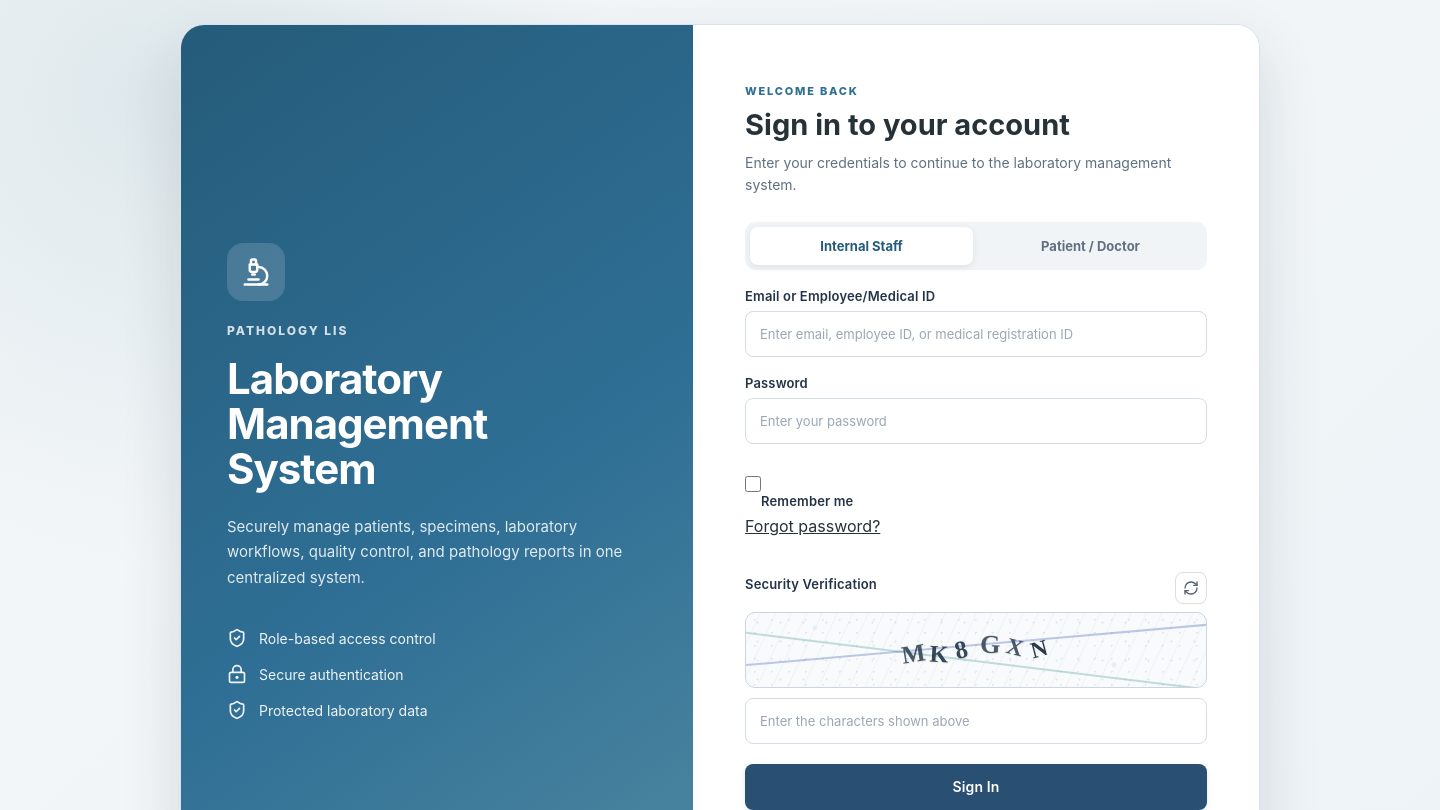
Test case: Login › switches to external patient login
This screenshot has width=1440, height=810.
Click the button "Patient / Doctor". click: {"x": 1090, "y": 246}
box: [979,227,1202,265]
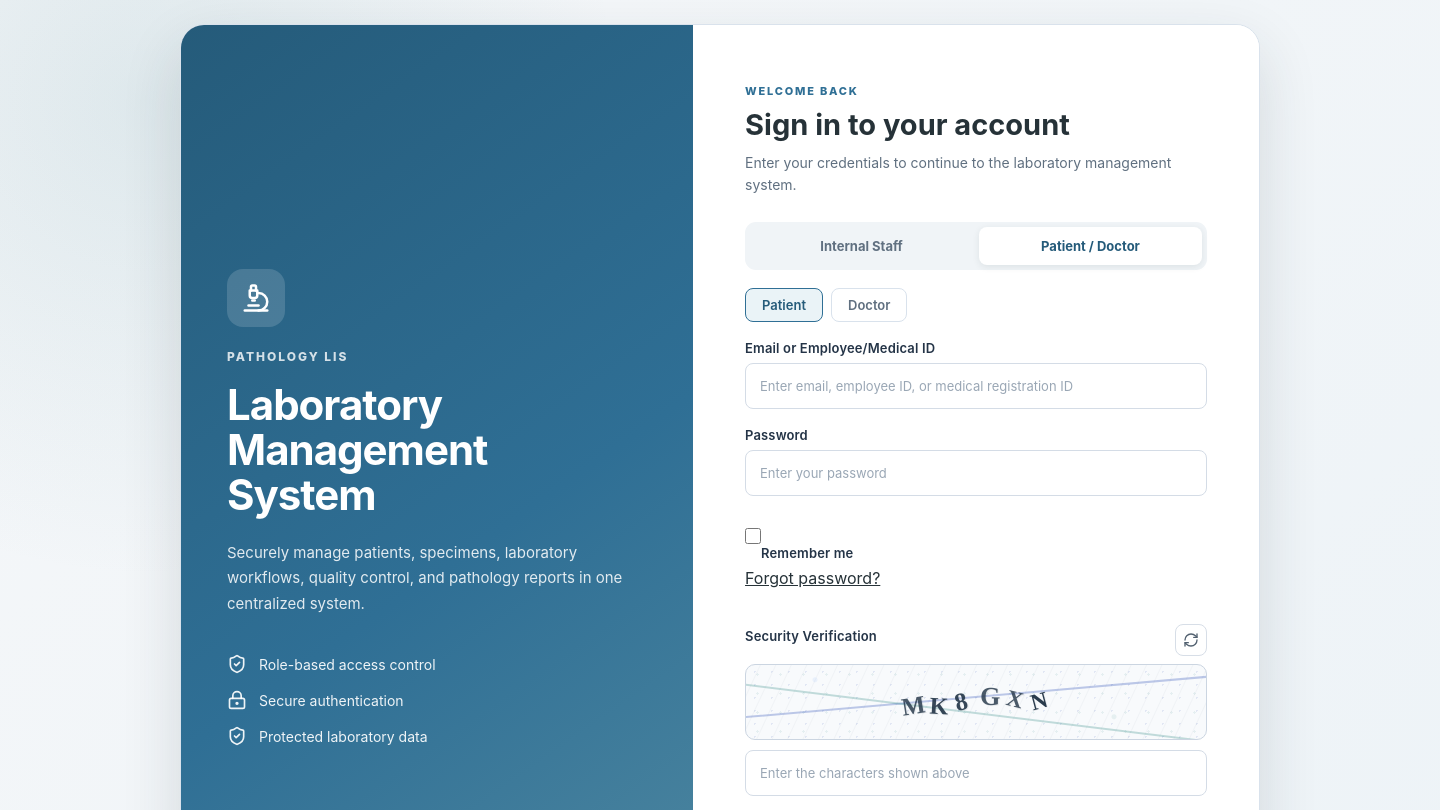
Expected: the button "Patient" is shown, [745,288,823,322]
Expected: the button "Doctor" is shown, [831,288,907,322]
